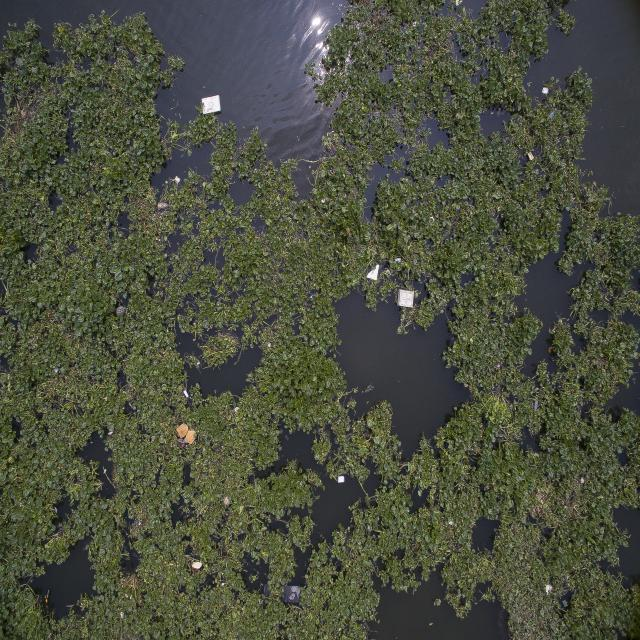plastic: (539, 578, 578, 616), (279, 578, 313, 617), (172, 408, 199, 456), (197, 86, 226, 124), (362, 257, 388, 293), (186, 552, 212, 582), (397, 280, 418, 314), (168, 168, 190, 196), (522, 144, 539, 169), (220, 493, 237, 512), (538, 80, 551, 102), (336, 472, 349, 492), (180, 387, 194, 402)
